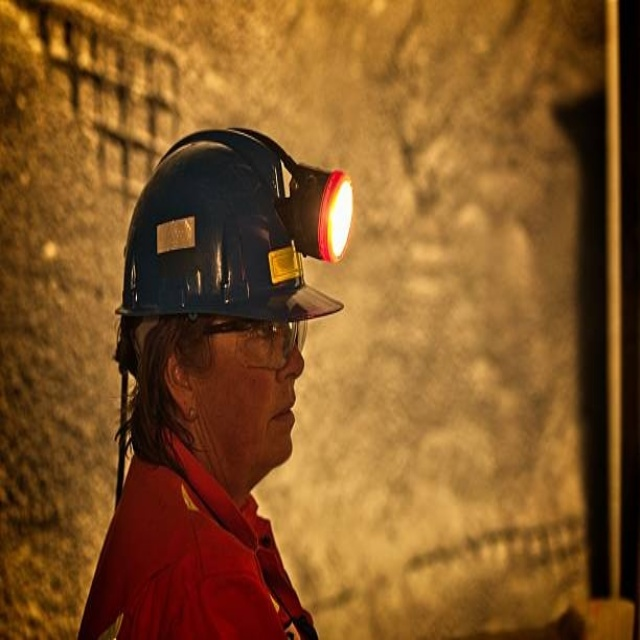Gafas: (198, 314, 311, 365)
Sin_mascara: (255, 382, 300, 458)
